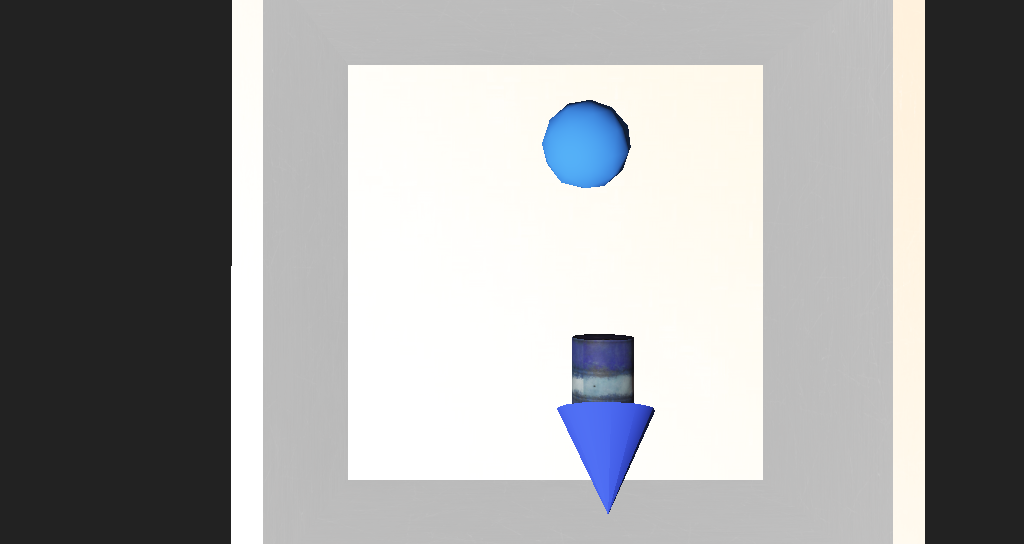cone: (519, 301, 559, 348)
cylinder: (502, 324, 576, 401)
sphere: (492, 184, 559, 227)
